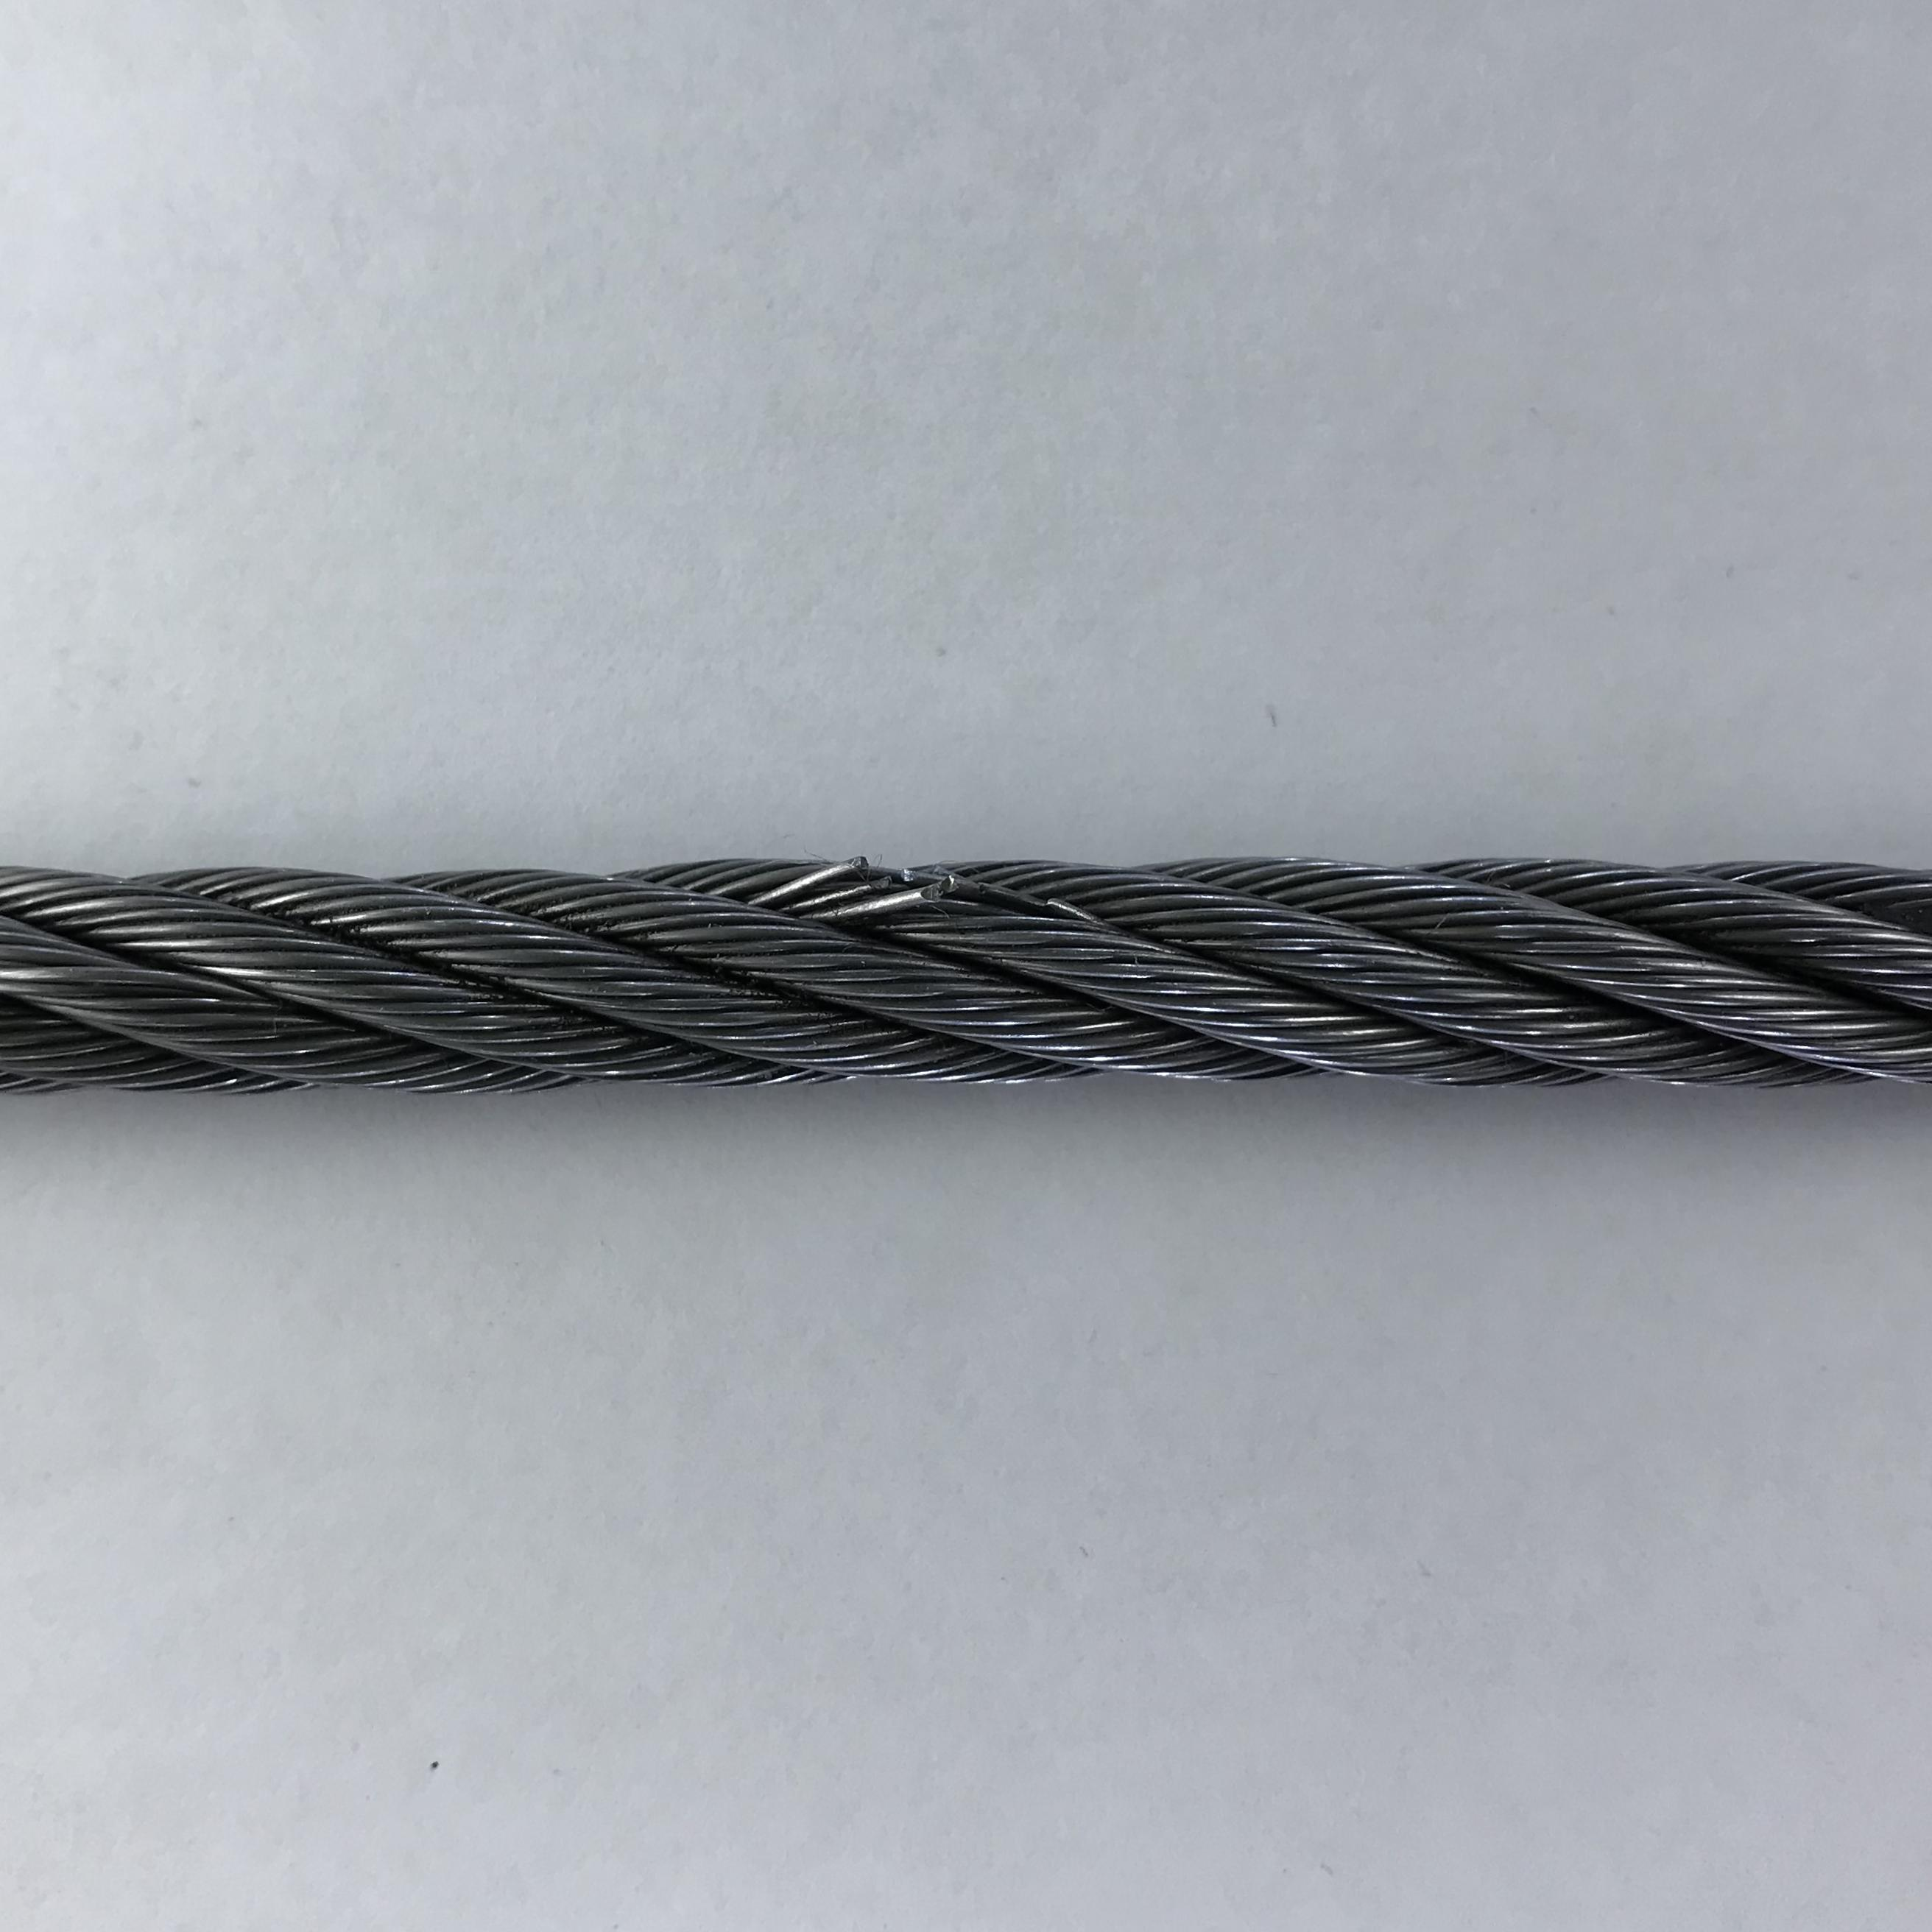break: (794, 839, 1051, 931)
